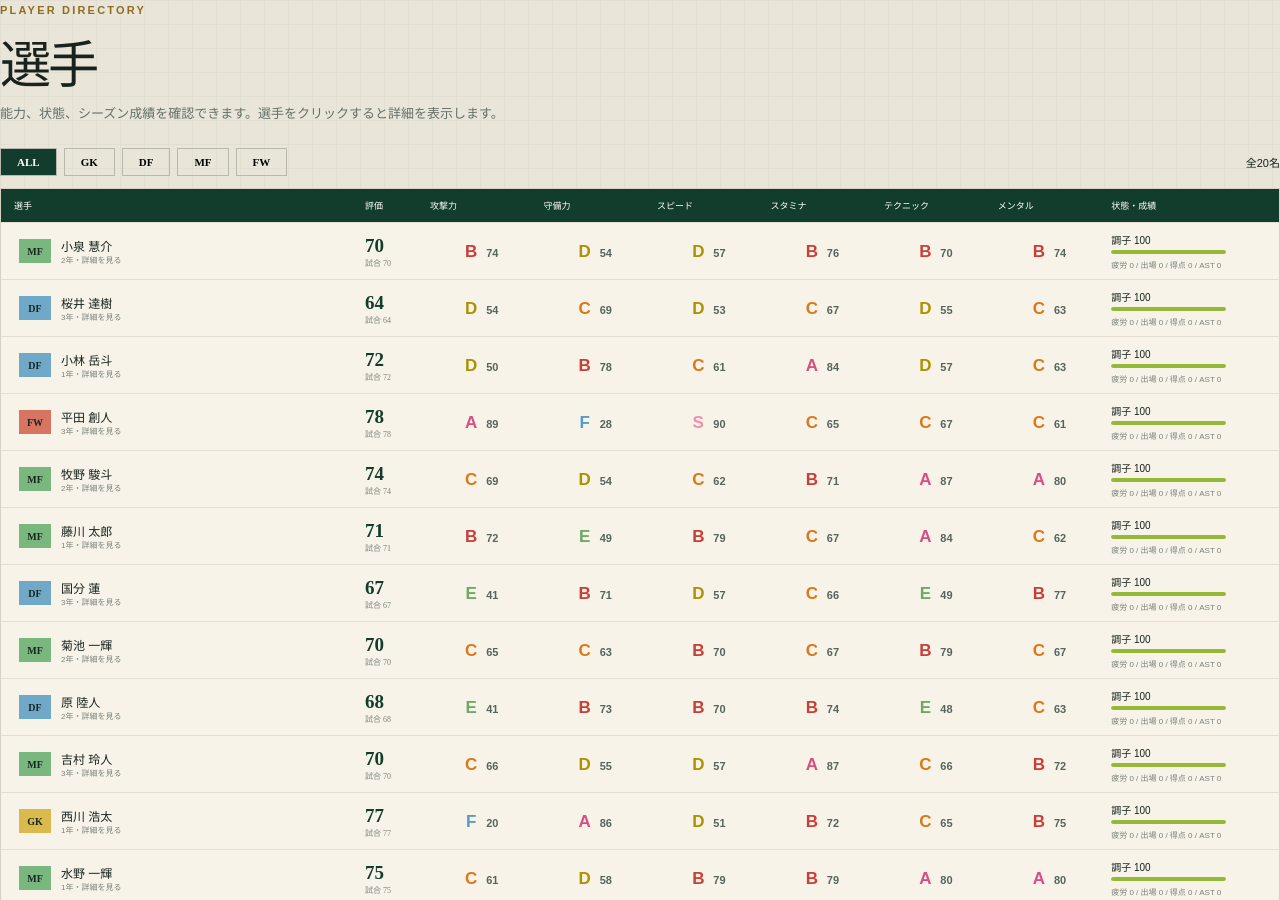
Test: SquadScreen player details › opens player details without exposing lineup controls
The width and height of the screenshot is (1280, 900).
Expected: the 1st text "74" is shown, [486, 246, 498, 258]
Expected: the 1st element with class "stat-bar" is shown, [1111, 250, 1226, 254]
Click the element showing "西川 浩太 1年・詳細を見る" at coordinates (91, 821), box [61, 807, 122, 835]
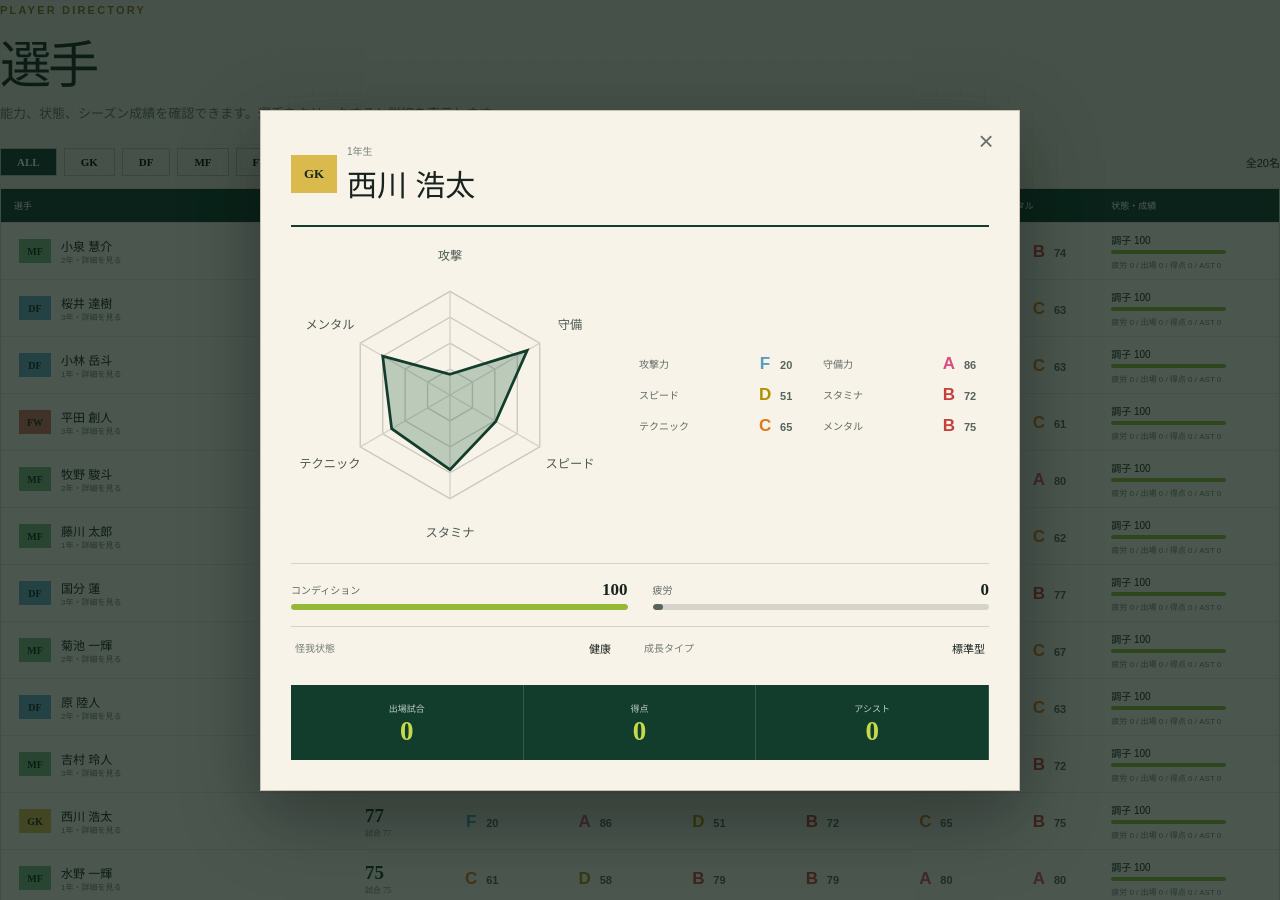
Now the dialog is shown, box [260, 110, 1020, 790]
Now the text "20" is shown, box [780, 359, 792, 371]
Now the text "出場試合" is shown, box [389, 704, 425, 714]
Click the button named "閉じる" at coordinates (986, 142), box [969, 124, 1003, 158]
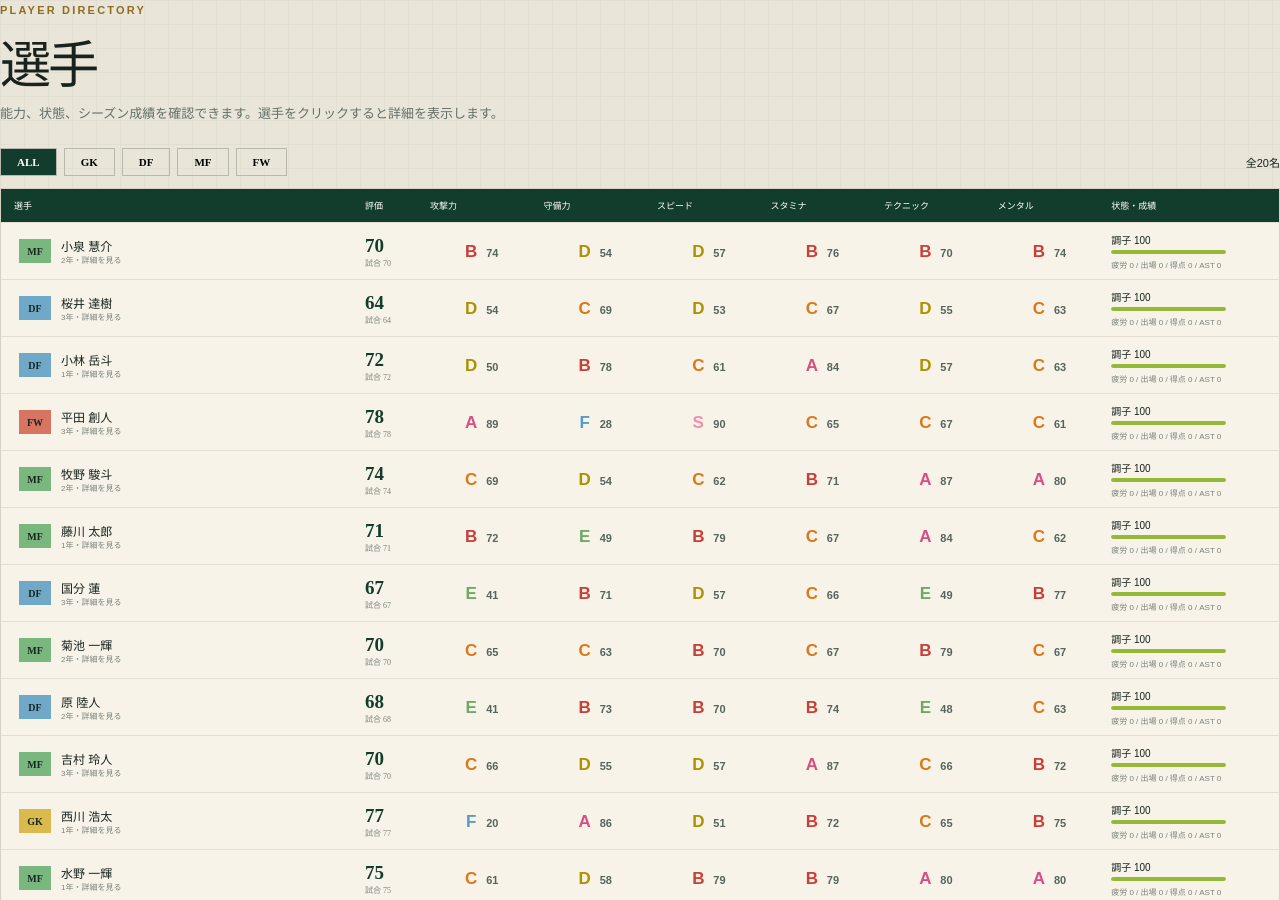
Now the dialog is gone
